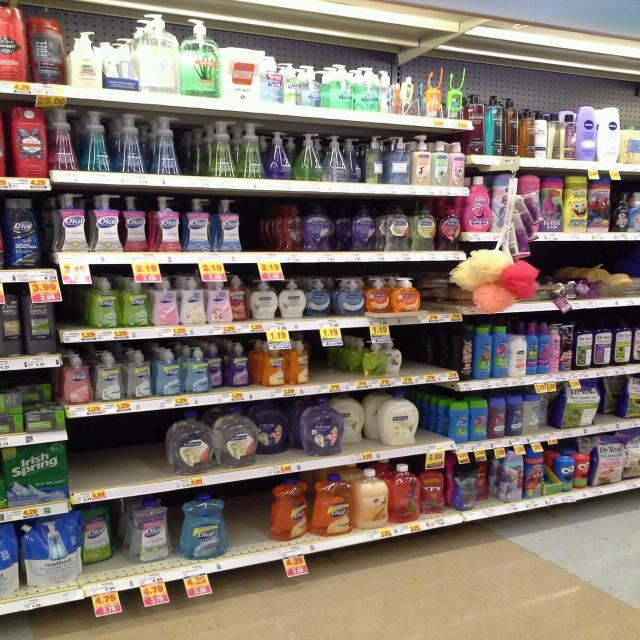empty_space: (79, 428, 159, 477), (230, 487, 270, 550), (407, 337, 448, 368), (247, 200, 269, 245)
